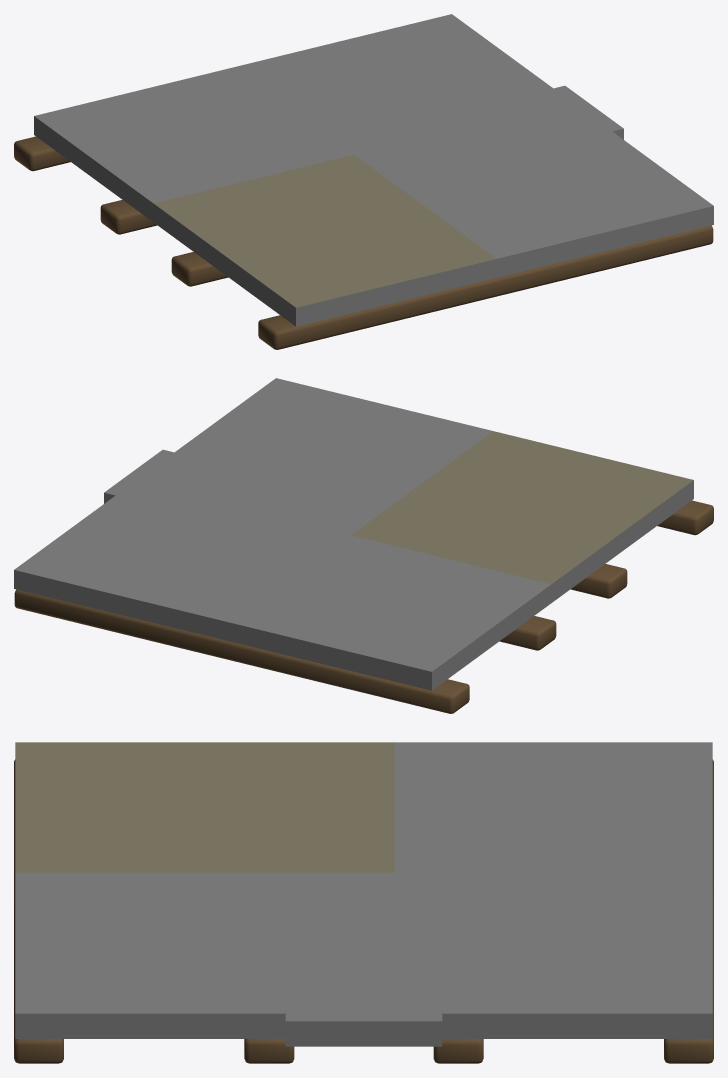
The model's file is FloorKitchen.fbx.
3 views of the same model, one above another, from view 1: azimuth 30°, elevation 25°; view 2: azimuth 150°, elevation 25°; view 3: azimuth 270°, elevation 25° (orthographic). The views are drawn at different scales.
Visible parts, largest first — view 1: Groiund; view 2: Groiund; view 3: Groiund.
Boxes of the visible parts, x1,y1,x2,y2 form: Groiund: (14,14,713,349); Groiund: (14,378,713,713); Groiund: (14,742,713,1063).
Size of the model in its own units: 6.47 by 0.5327 by 6.54.
